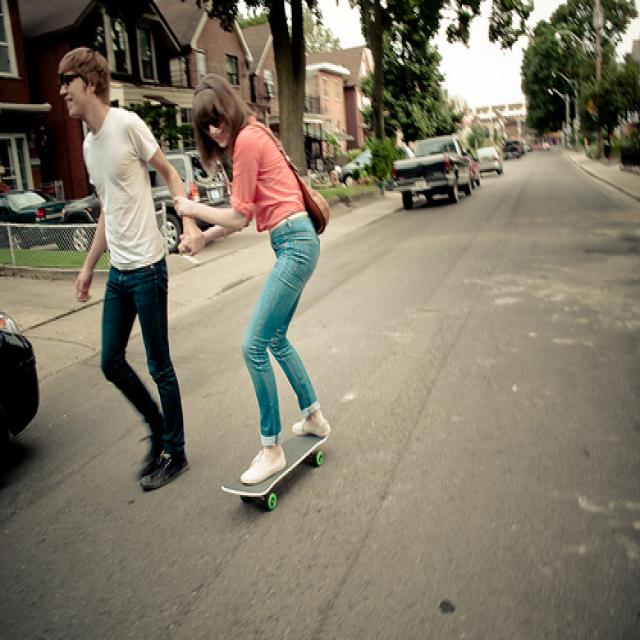Vehicle: (62, 147, 231, 254), (389, 134, 480, 212), (2, 315, 43, 437), (338, 140, 413, 184), (0, 190, 71, 223), (476, 146, 503, 178), (501, 139, 527, 160)
